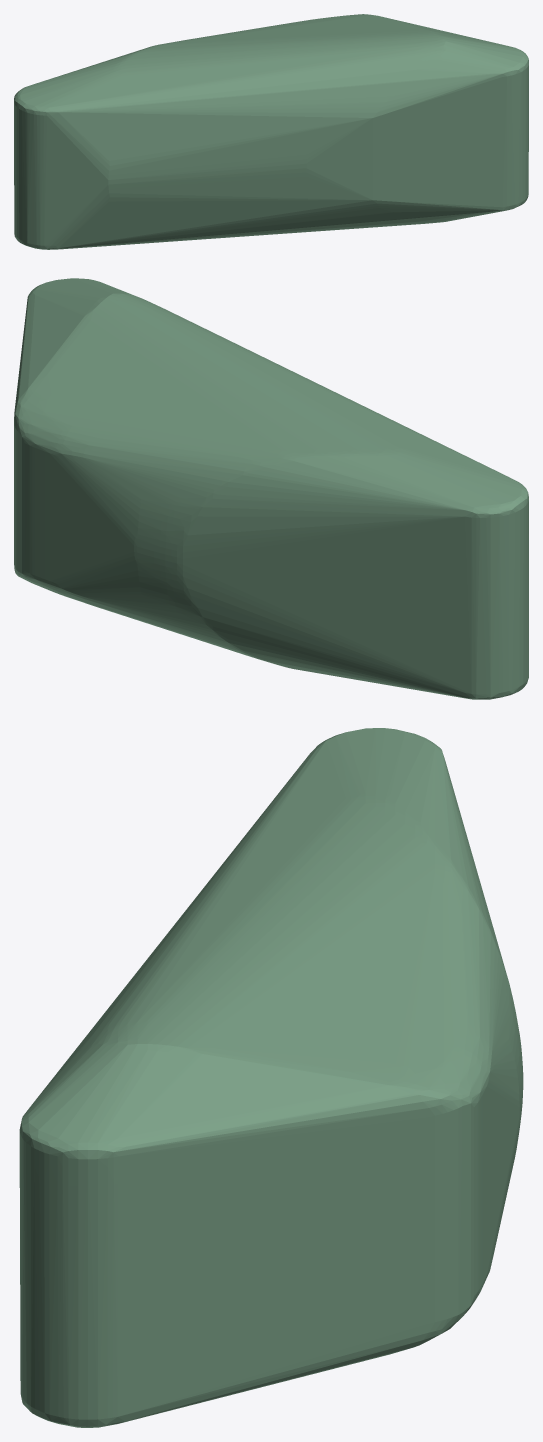
3 renders of one model, top to bottom at view 1: azimuth 30°, elevation 25°; view 2: azimuth 150°, elevation 25°; view 3: azimuth 270°, elevation 25°, orthographic. The views are drawn at different scales.
Visible parts, largest first — view 1: geometry_0; view 2: geometry_0; view 3: geometry_0.
Part boxes in pixels (<box>): geometry_0: <box>14,14,528,249</box>; geometry_0: <box>14,278,528,699</box>; geometry_0: <box>19,728,523,1427</box>.
Size of the model in its own units: 0.0395 by 0.0155 by 0.0198.
